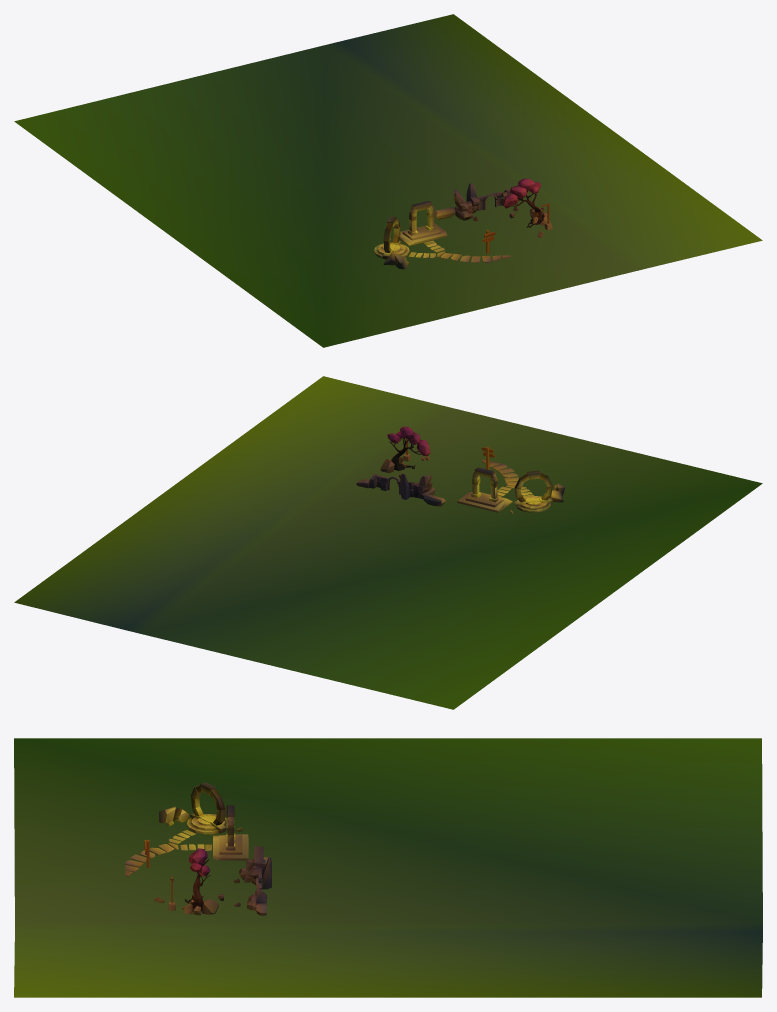
Rendered from full-scene-compressed2.glb.
3 views of the same model, one above another, from view 1: azimuth 30°, elevation 25°; view 2: azimuth 150°, elevation 25°; view 3: azimuth 270°, elevation 25° (orthographic). The views are drawn at different scales.
Parts seen in each view (by area): view 1: baked; view 2: baked; view 3: baked.
Boxes of the visible parts, bbox=[...] form: baked: bbox=[14, 14, 762, 347]; baked: bbox=[14, 376, 762, 709]; baked: bbox=[14, 738, 762, 997].
Size of the model in its own units: 65.99 by 6.4 by 80.54.
